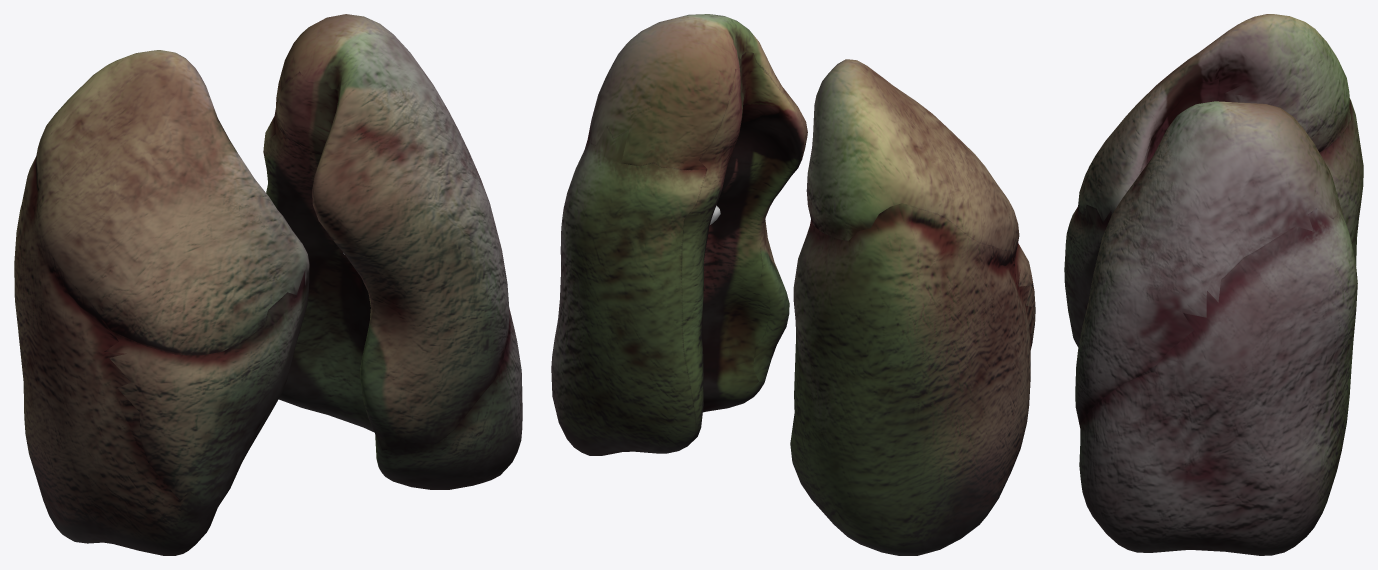
File: exported_infection.obj
The picture shows the model from 3 angles, left to right: view 1: azimuth 30°, elevation 25°; view 2: azimuth 150°, elevation 25°; view 3: azimuth 270°, elevation 25°; orthographic projection. The views are drawn at different scales.
Parts seen in each view (by area): view 1: thlow_Mesh.001; view 2: thlow_Mesh.001; view 3: thlow_Mesh.001.
Part boxes in pixels (left/top/right/bottom): thlow_Mesh.001: left=14, top=14, right=522, bottom=555; thlow_Mesh.001: left=551, top=14, right=1035, bottom=555; thlow_Mesh.001: left=1064, top=14, right=1363, bottom=555.
Size of the model in its own units: 2.62 by 2.69 by 1.67.
